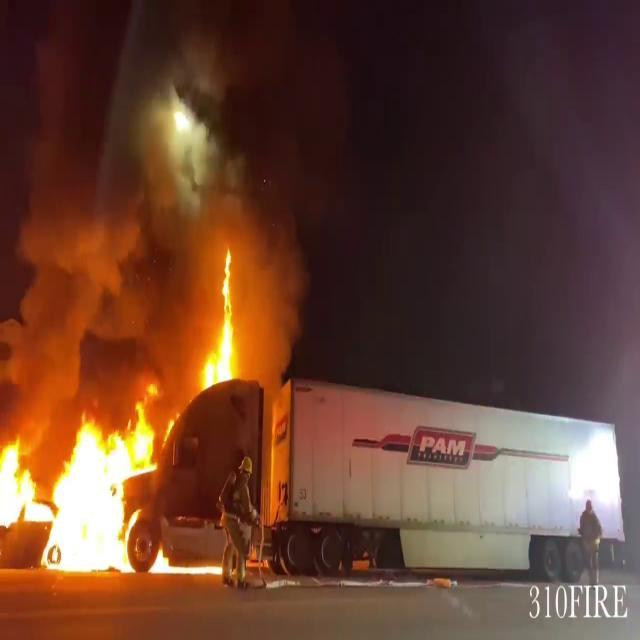Fire: (0, 402, 180, 576), (198, 252, 245, 400)
Smoke: (0, 0, 299, 402)
